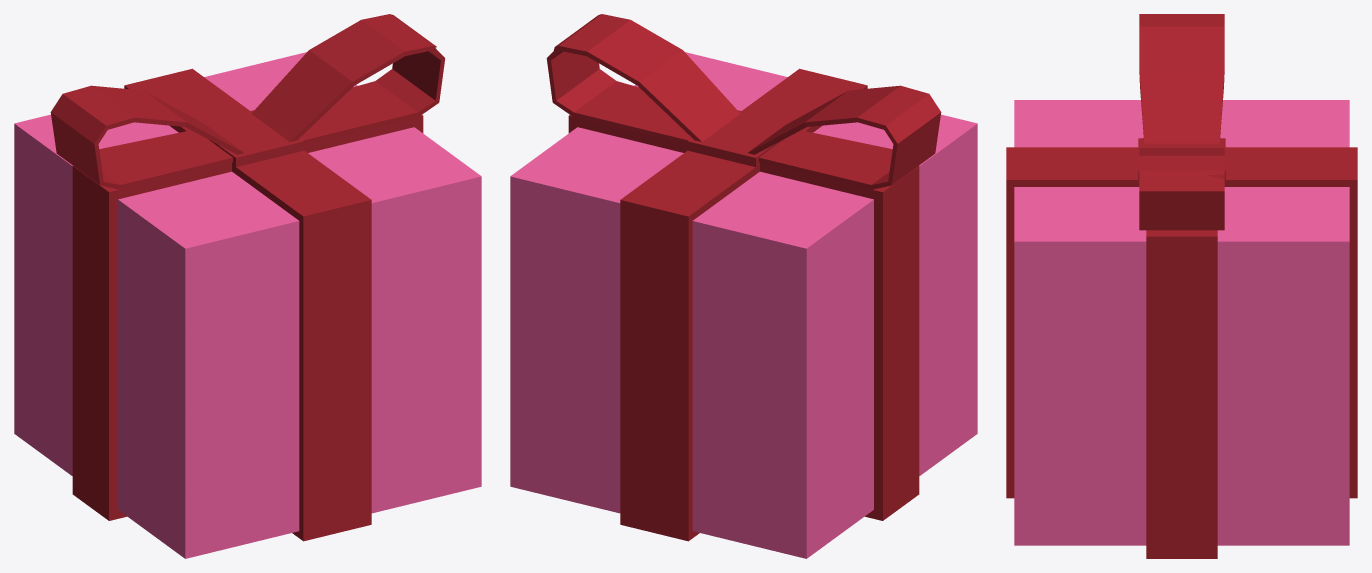
The model's file is giftbox_pink.fbx.
3 renders of one model, left to right at view 1: azimuth 30°, elevation 25°; view 2: azimuth 150°, elevation 25°; view 3: azimuth 270°, elevation 25°, orthographic. The views are drawn at different scales.
Visible parts, largest first — view 1: 平面.001; view 2: 平面.001; view 3: 平面.001.
Boxes of the visible parts, bbox=[...] form: 平面.001: bbox=[14, 14, 481, 558]; 平面.001: bbox=[510, 14, 977, 558]; 平面.001: bbox=[1006, 14, 1357, 558].
Size of the model in its own units: 2.37 by 2.63 by 2.09.
